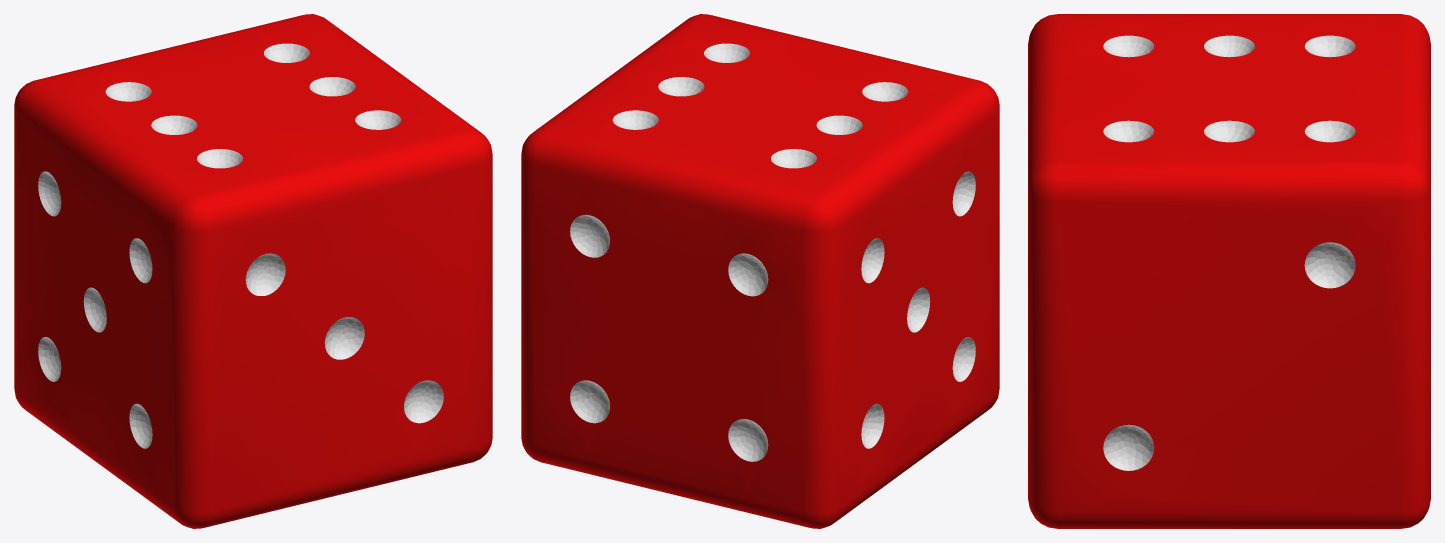
File: dice.fbx
The picture shows the model from 3 angles, left to right: view 1: azimuth 30°, elevation 25°; view 2: azimuth 150°, elevation 25°; view 3: azimuth 270°, elevation 25°; orthographic projection. The views are drawn at different scales.
Parts seen in each view (by area): view 1: Cube; view 2: Cube; view 3: Cube.
Boxes of the visible parts, x1,y1,x2,y2 form: Cube: (14,14,492,528); Cube: (521,14,999,528); Cube: (1028,14,1430,528).
Bounding box in the file's own units: 200 × 200 × 200.
